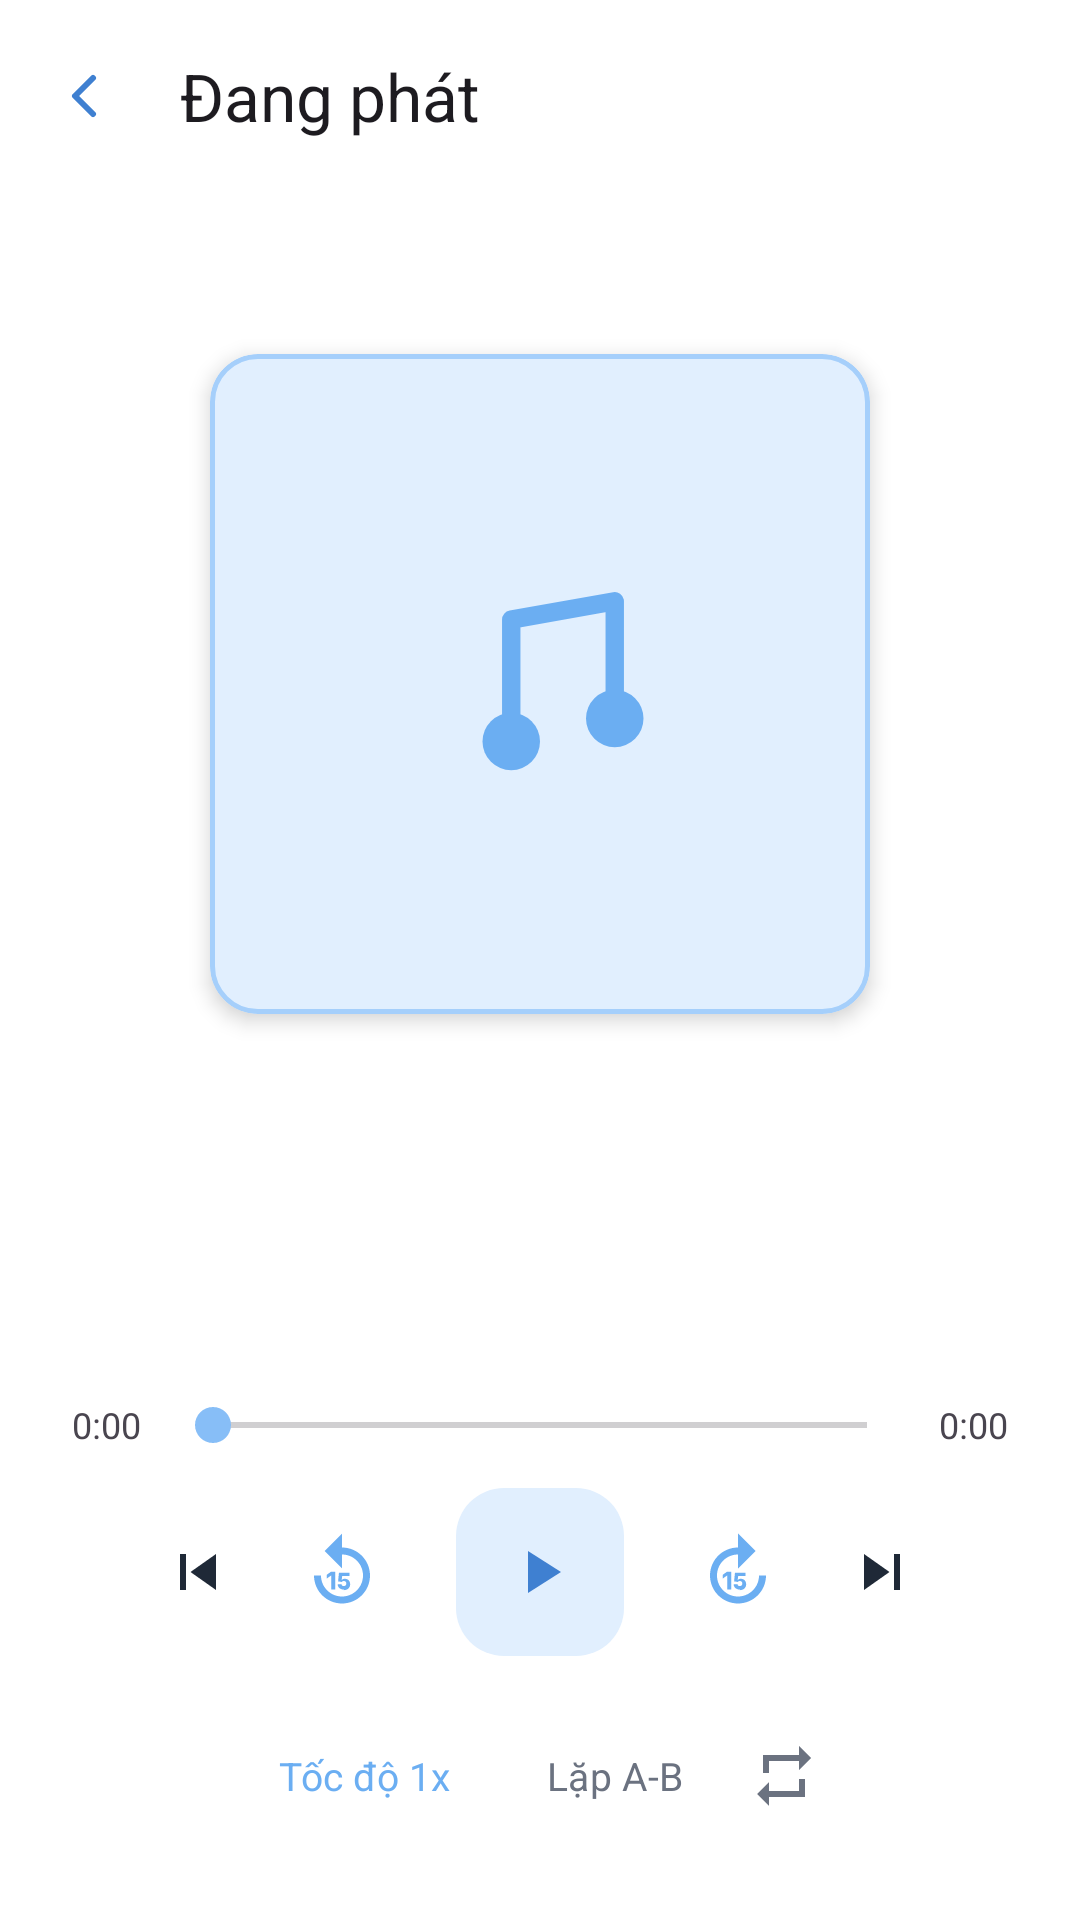

Screen size 1080*1920. Icon name, then its box in pixels as (x1, y1, x2, y2):
Bài tiếp theo: (864, 1554, 900, 1590)
Bài trước: (180, 1554, 216, 1590)
Lặp lại bài này: (757, 1746, 811, 1806)
Phát/Tạm dừng: (456, 1488, 624, 1656)
